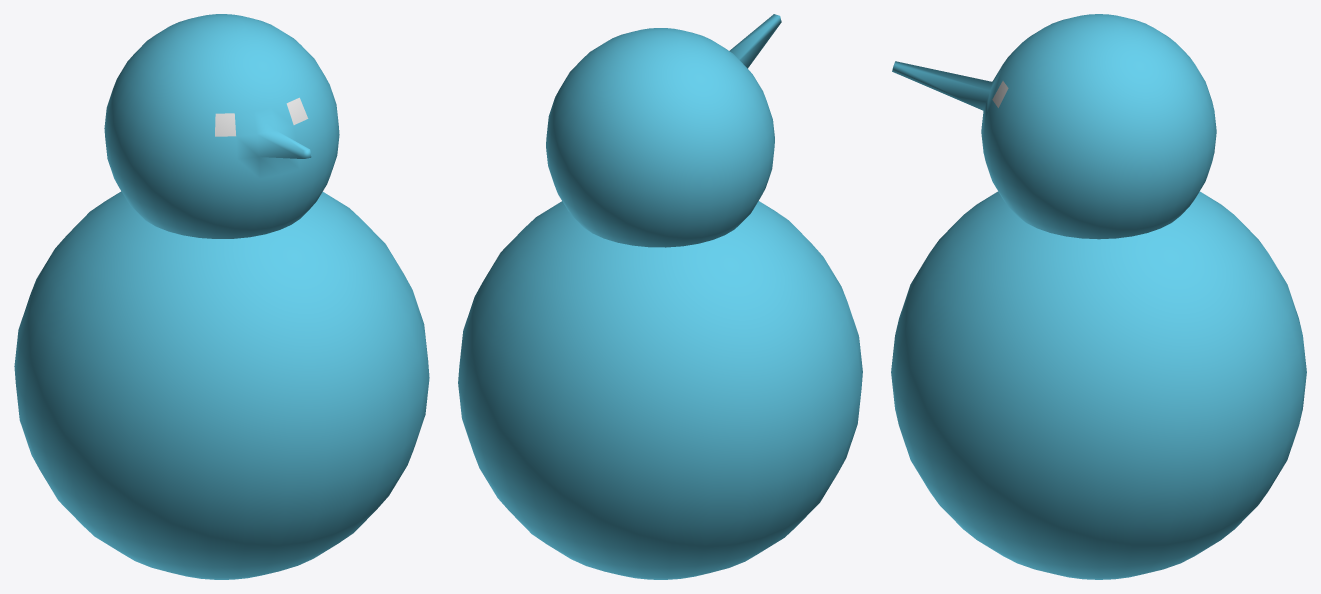
File: Snowman.gltf
3 renders of one model, left to right at view 1: azimuth 30°, elevation 25°; view 2: azimuth 150°, elevation 25°; view 3: azimuth 270°, elevation 25°, orthographic. The views are drawn at different scales.
Visible parts, largest first — view 1: torso, head; view 2: torso, head; view 3: torso, head.
Boxes of the visible parts, x1,y1,x2,y2 form: torso: (14,191,429,579); head: (104,14,339,238); torso: (458,201,862,579); head: (546,14,781,247); torso: (891,191,1306,579); head: (892,14,1216,239).
Bounding box in the file's own units: 2 × 2.84 × 2.
